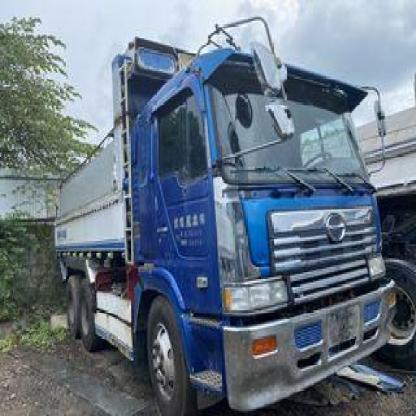dump_truck: (40, 31, 402, 406)
